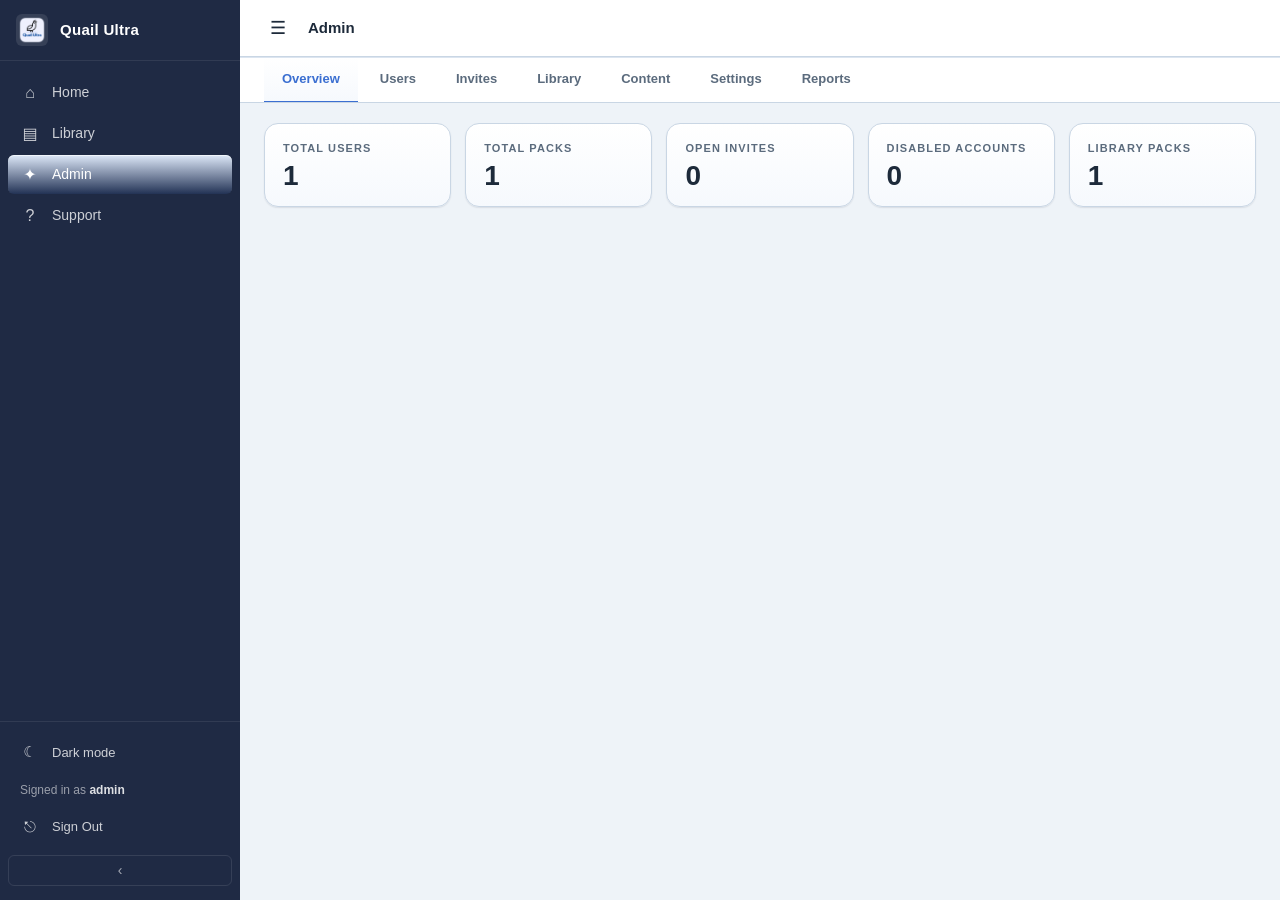
Scenario: AdminPage › loads native pack content from the Content tab
Click the button "Content" at (646, 80), box left=603, top=57, right=688, bottom=102
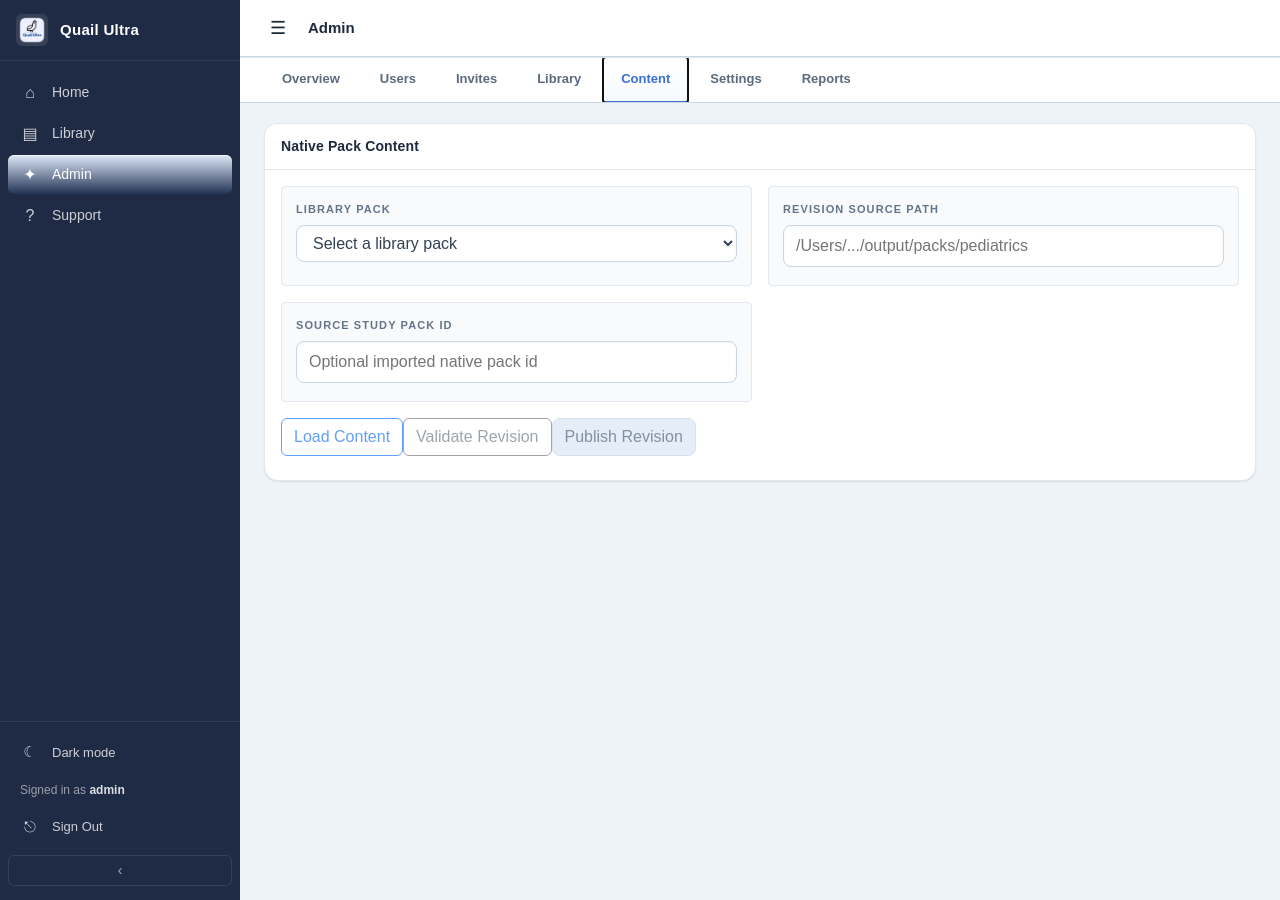
Select "Pediatrics" in the dropdown showing "Select a library pack" at (516, 244), box left=296, top=225, right=737, bottom=262
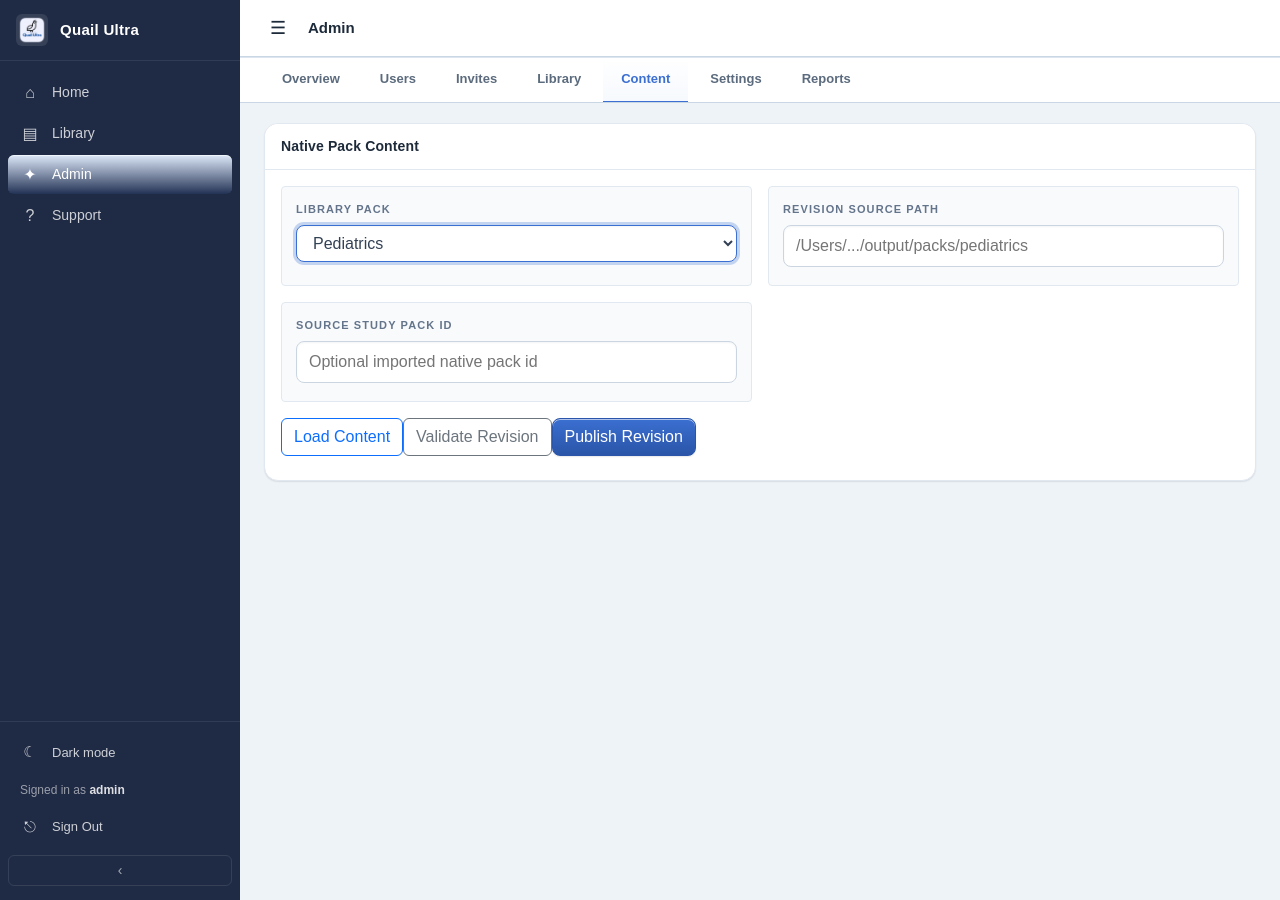
Click the button "Load Content" at (342, 436), box left=281, top=418, right=403, bottom=456
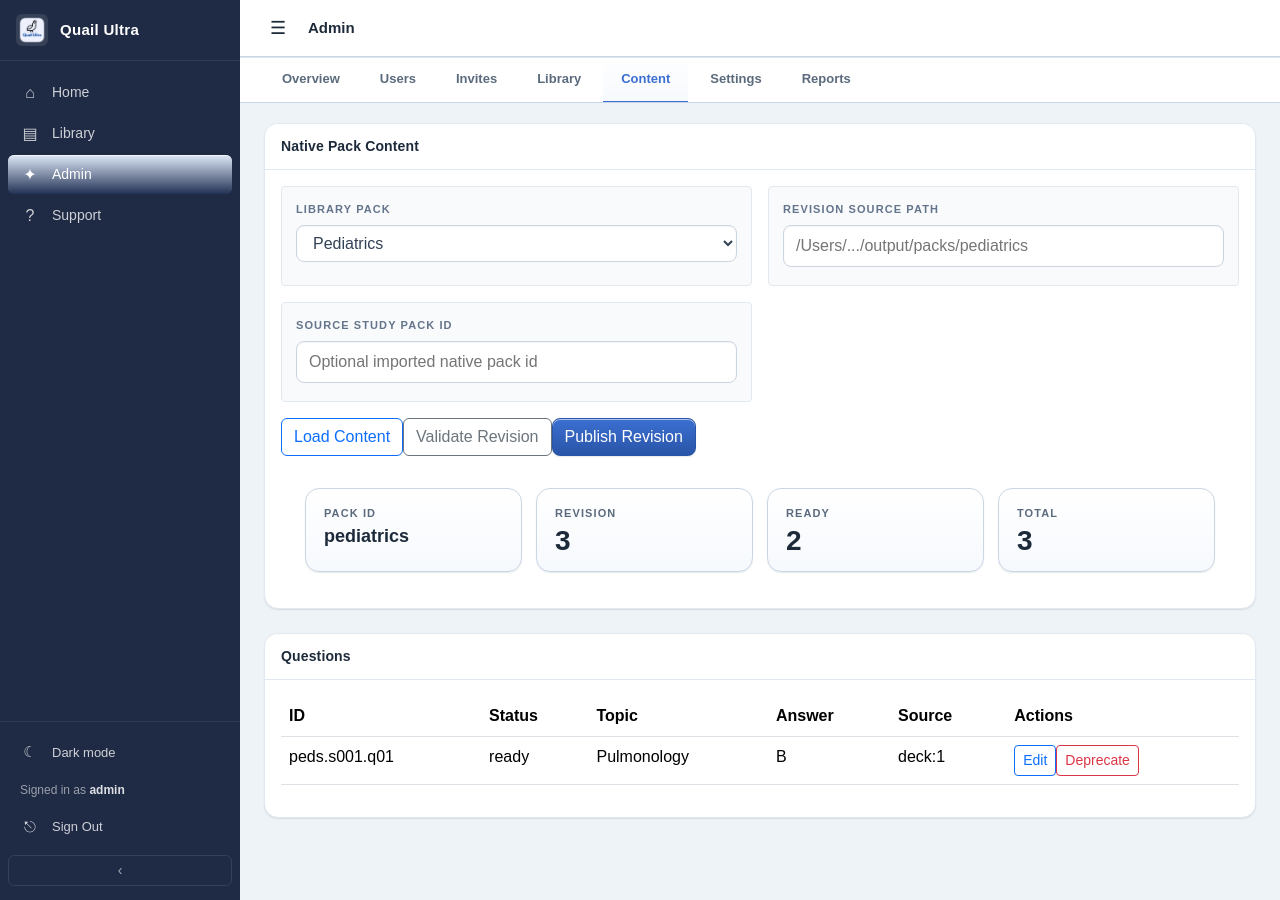
Expected: the text "pediatrics" is shown, left=324, top=526, right=409, bottom=546
Expected: the text "peds.s001.q01" is shown, left=281, top=736, right=481, bottom=784
